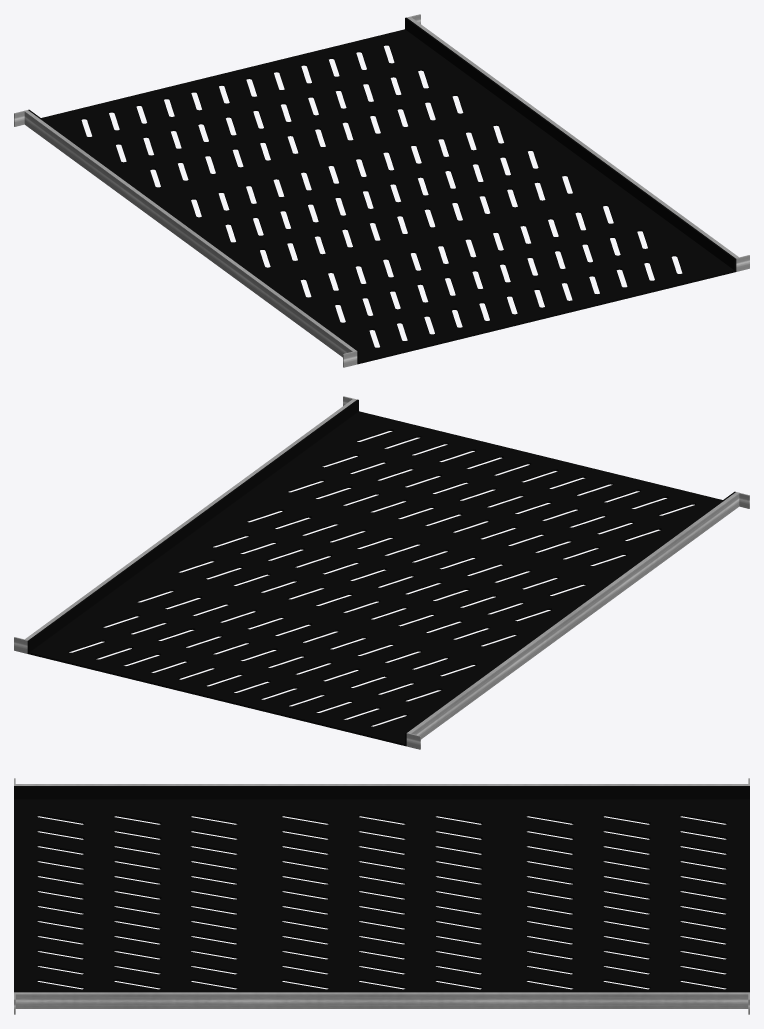
The model's file is SHDB2.fbx.
The picture shows the model from 3 angles, top to bottom: view 1: azimuth 30°, elevation 25°; view 2: azimuth 150°, elevation 25°; view 3: azimuth 270°, elevation 25°; orthographic projection. The views are drawn at different scales.
Visible parts, largest first — view 1: SHDB_2; view 2: SHDB_2; view 3: SHDB_2.
Boxes of the visible parts, x1=… form: SHDB_2: x1=14, y1=14, x2=749, y2=367; SHDB_2: x1=14, y1=396, x2=749, y2=749; SHDB_2: x1=14, y1=778, x2=749, y2=1014.
Bounding box in the file's own units: 482 × 15 × 677.
2 materials, 1 textured.
